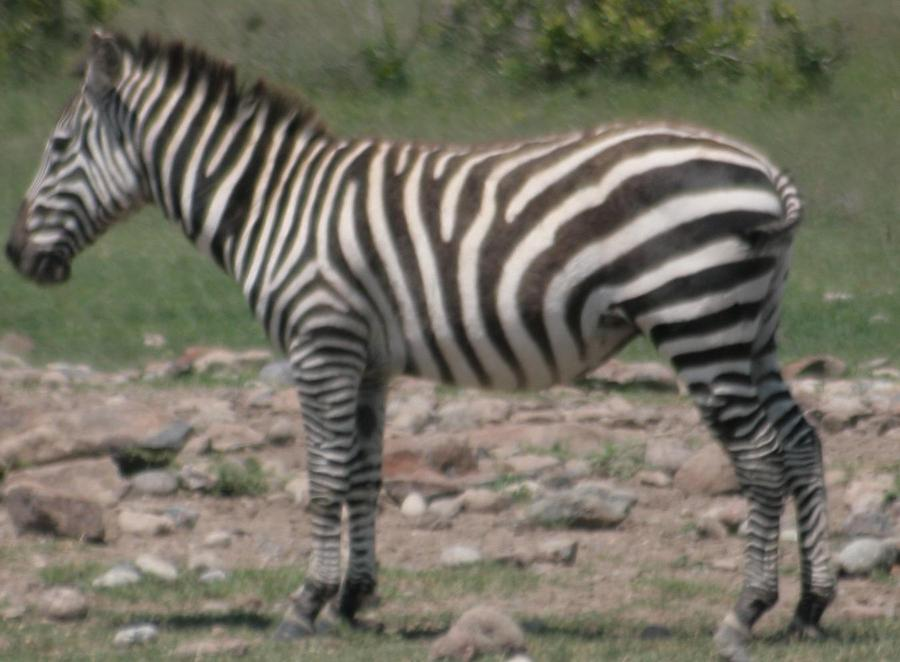zebra_plains: (209, 83, 829, 413)
